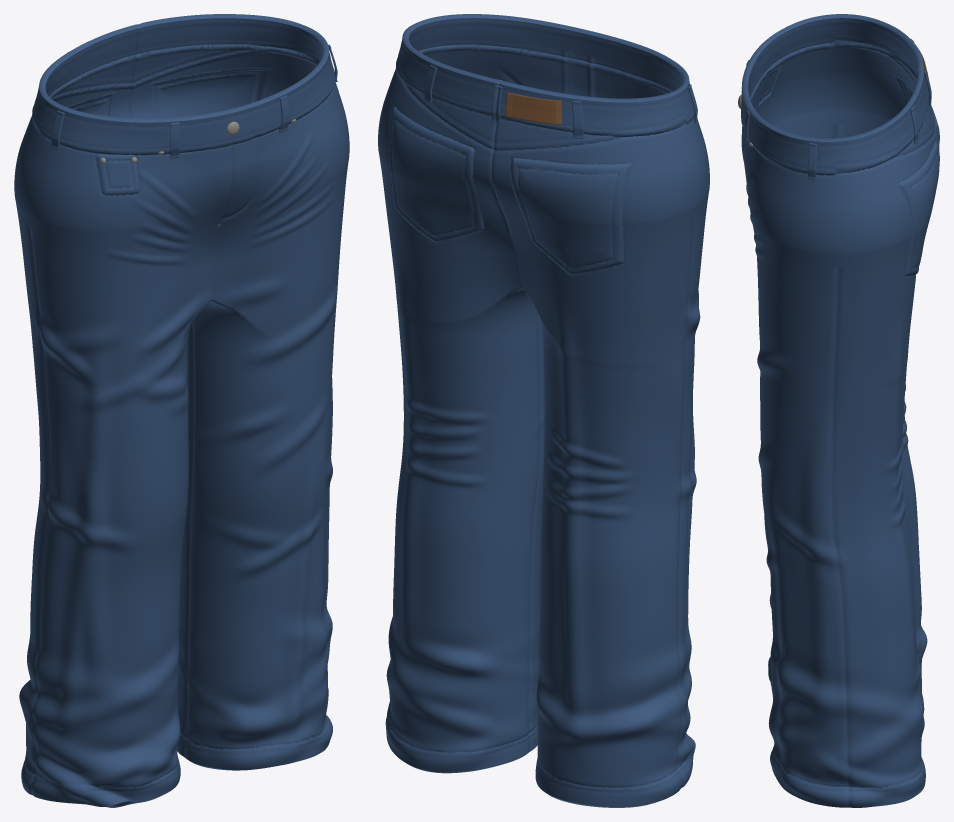
Rendered from 23_vaquero_recto.glb.
3 views of the same model, side by side, from view 1: azimuth 30°, elevation 25°; view 2: azimuth 150°, elevation 25°; view 3: azimuth 270°, elevation 25° (orthographic). The views are drawn at different scales.
Visible parts, largest first — view 1: body; view 2: body, trim; view 3: body.
Boxes of the visible parts, bbox=[...] form: body: bbox=[14, 14, 349, 807]; body: bbox=[378, 14, 709, 807]; trim: bbox=[505, 92, 562, 124]; body: bbox=[741, 14, 939, 807].
Bounding box in the file's own units: 0.4408 × 0.969 × 0.2597.
